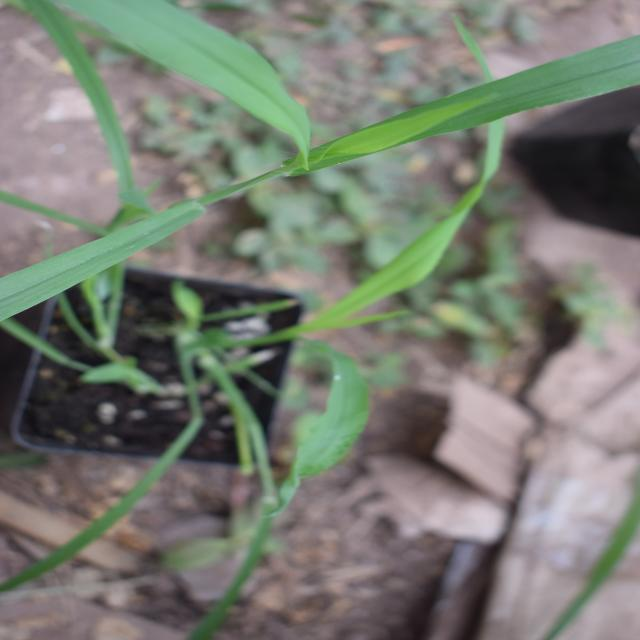crabgrass: (0, 42, 302, 619)
